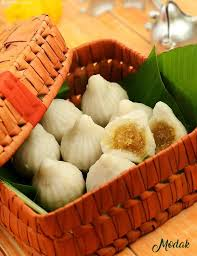modak: (81, 146, 141, 192), (80, 72, 132, 123), (33, 159, 88, 207), (18, 123, 66, 172), (66, 118, 107, 164)
